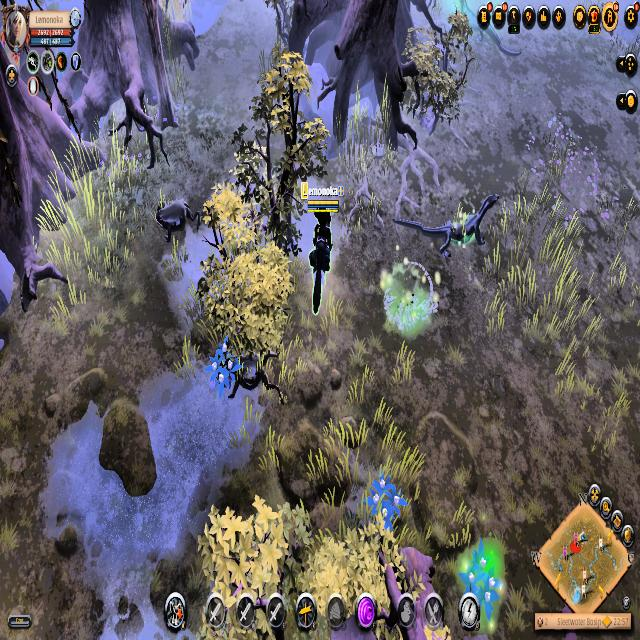fiber tier 4: (366, 468, 410, 538), (206, 337, 242, 399)
